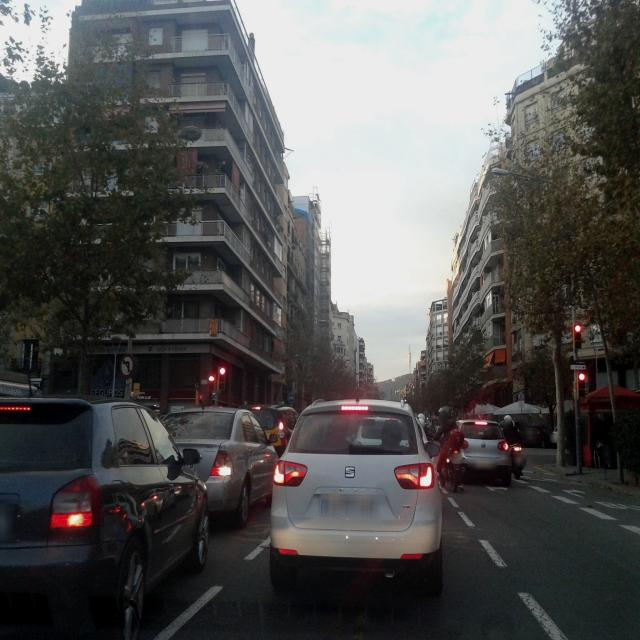bike: (436, 439, 467, 494), (509, 436, 527, 479)
car: (0, 392, 210, 640), (269, 380, 444, 596), (158, 406, 280, 528), (442, 418, 513, 488), (245, 404, 298, 460)
